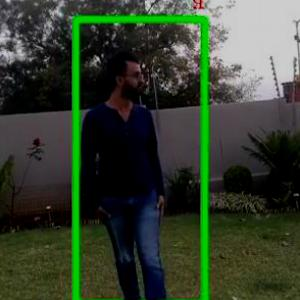follow: (72, 24, 186, 295)
